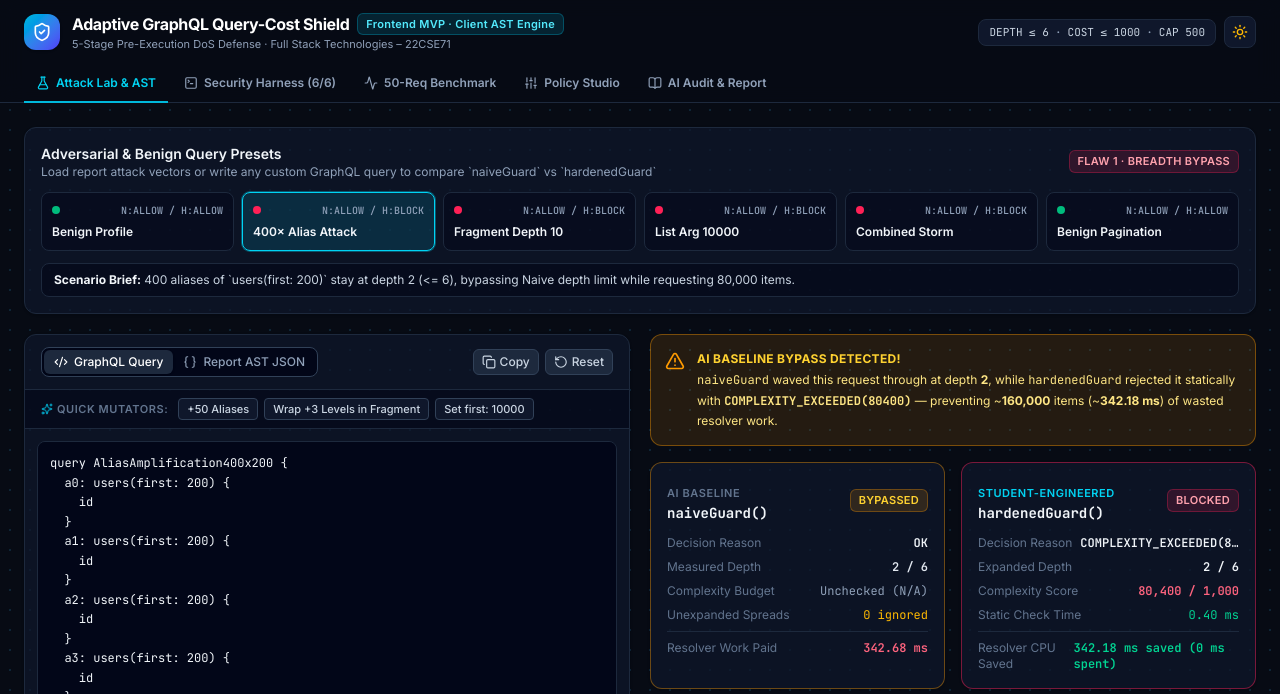
Test case: Adaptive GraphQL Query-Cost Shield UI › loads a test payload from Security Harness into Attack Lab
The width and height of the screenshot is (1280, 694).
Click the button "Security Harness (6/6)". click: (260,84)
box: [172, 64, 348, 102]
(page scrolled)
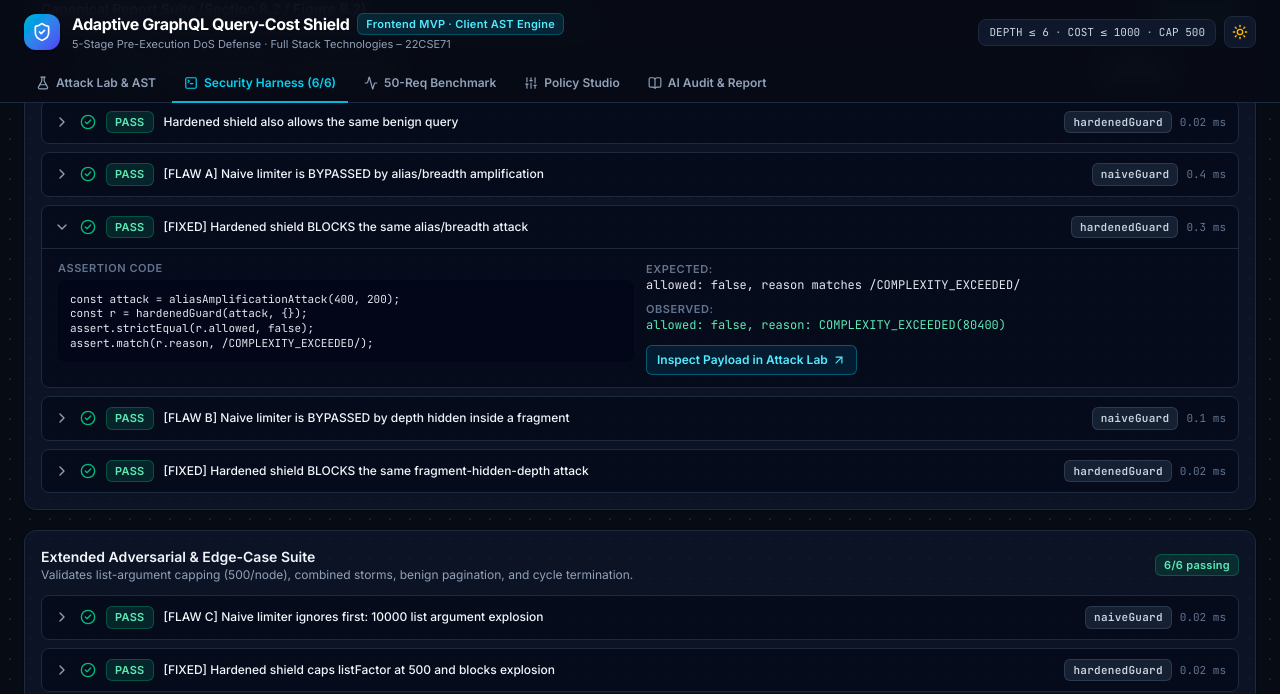
Click the button "Inspect Payload in Attack Lab". click: (751,360)
box: [646, 345, 857, 375]
(page scrolled)
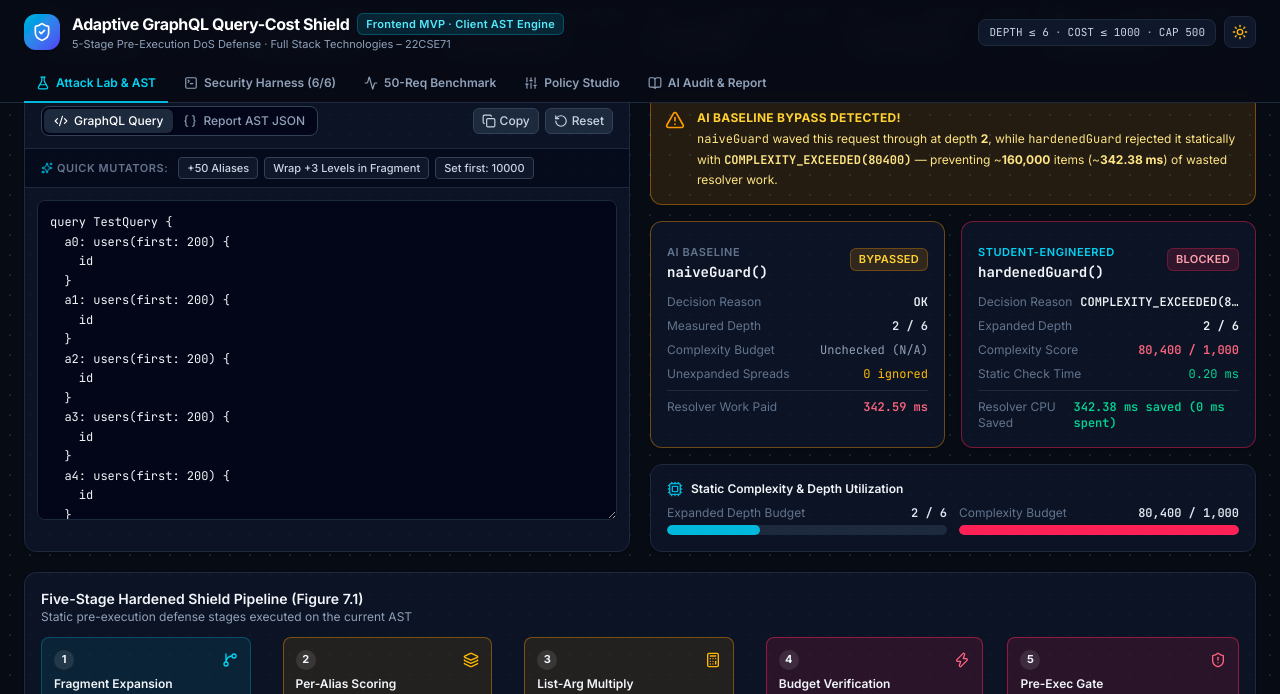
Expected: the text box named "GraphQL Query Editor" is shown, [37, 200, 617, 520]
